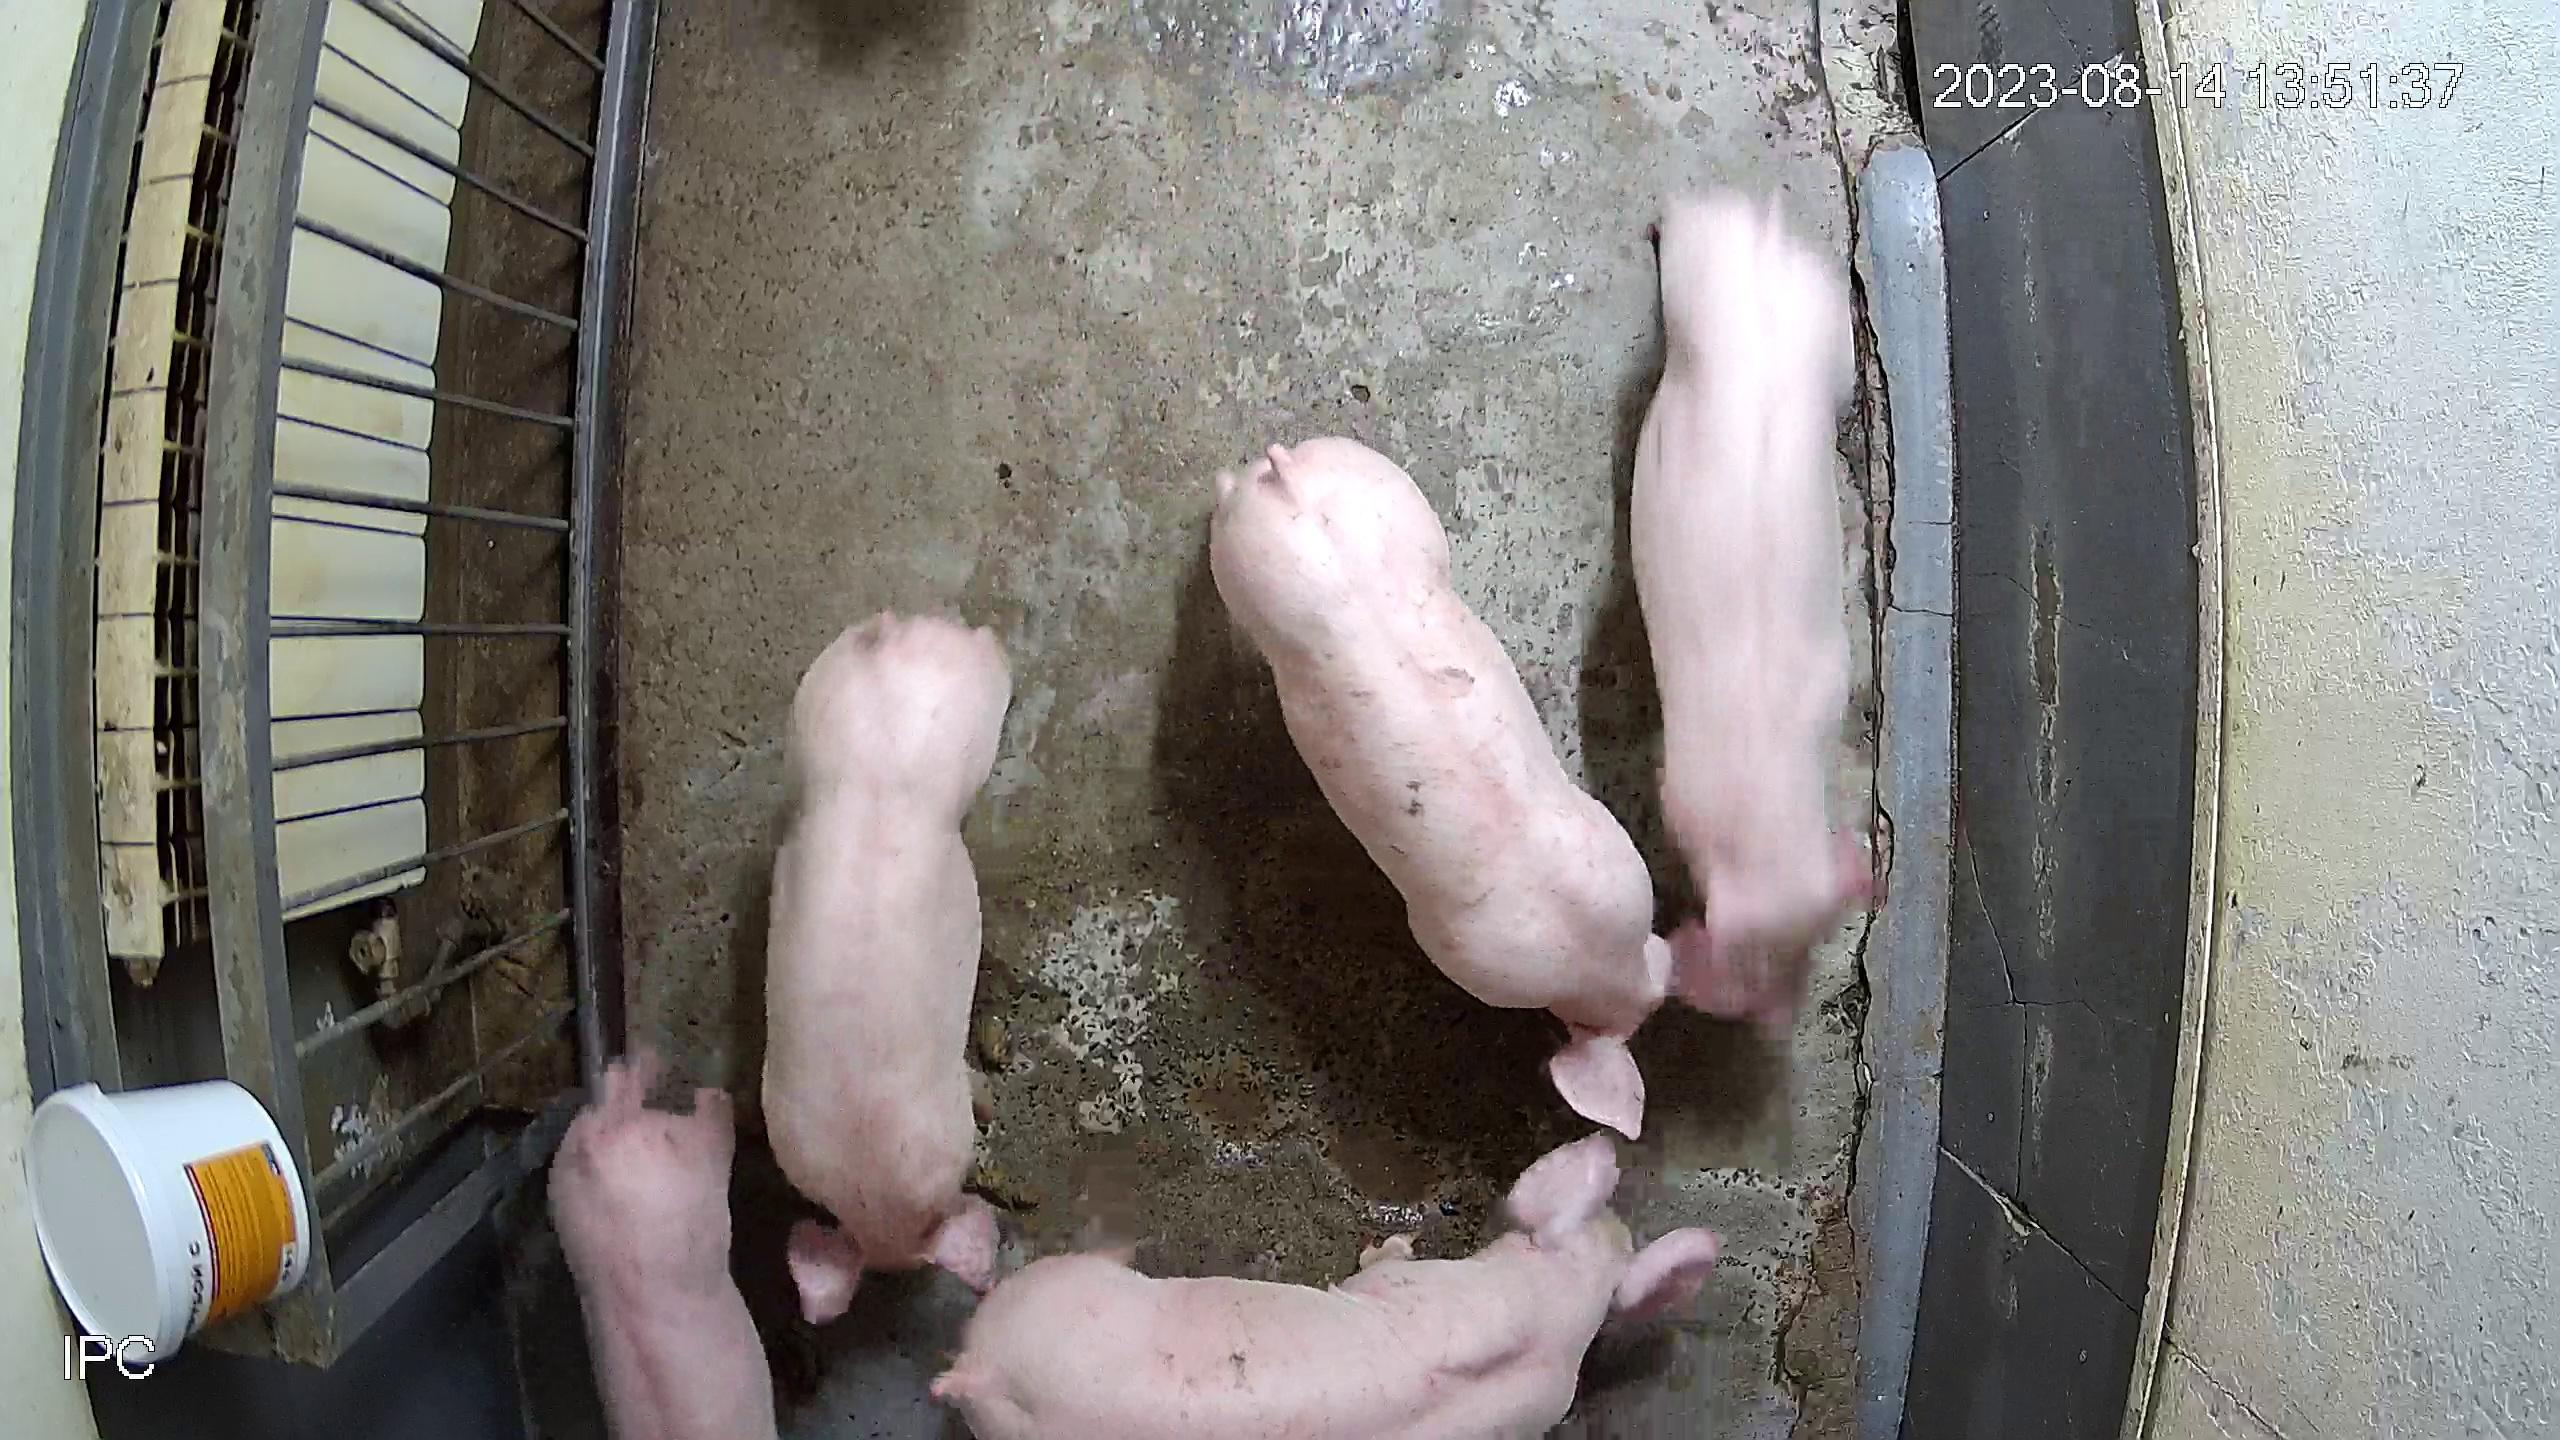Pig: (1210, 434, 1676, 1138), (934, 1132, 1718, 1440), (1633, 188, 1871, 1023), (761, 608, 1009, 1324), (547, 1051, 774, 1440)
